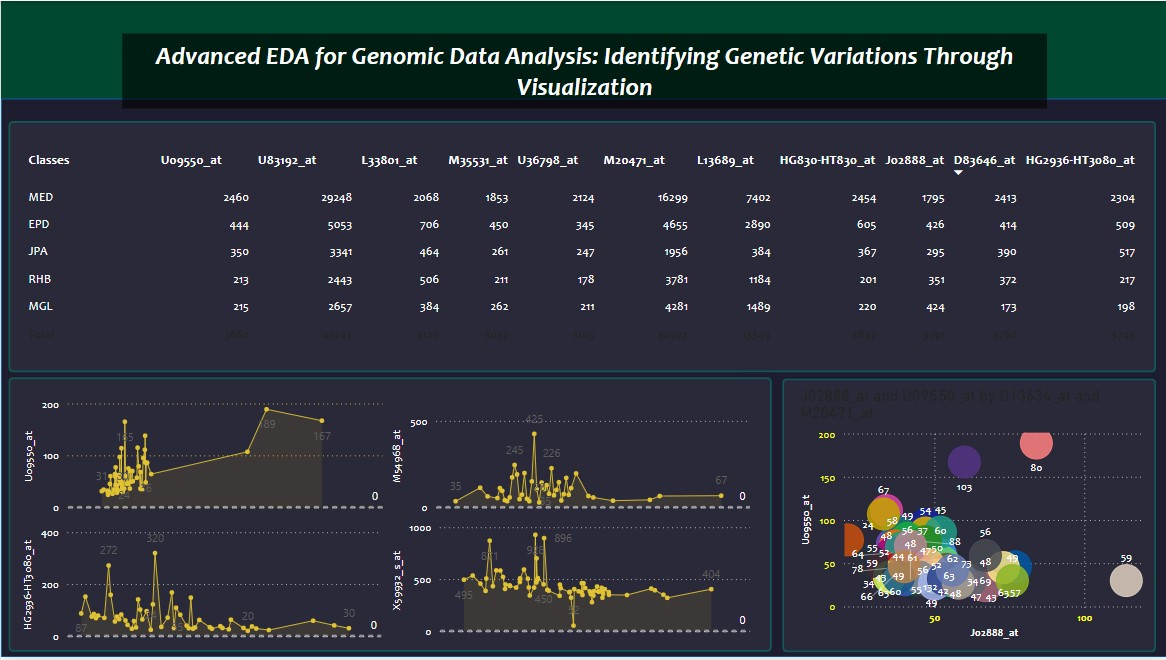

What the dashboard file says about the page in this screenshot:
{"tool":"powerbi","page":{"name":"Page 2","canvas":[1280,720],"ordinal":1},"visuals":[{"type":"shape","box":[0,106.6,1280.3,613.4],"z":0},{"type":"shape","box":[857.6,414.4,410.3,300.5],"z":1000},{"type":"shape","box":[8.6,412.9,838,301.4],"z":2000},{"type":"actionButton","box":[133.1,35.7,1015.4,82.3],"z":3000},{"type":"shape","box":[8.2,131.7,1259.7,275.8],"z":4000},{"type":"scatterChart","fields":{"Category":["pp5i_traintop02.Classes"],"X":["Sum(pp5i_traintop02.J02888_at)"],"Y":["Sum(pp5i_traintop02.U09550_at)"],"Series":["pp5i_traintop02.M20471_at"]},"box":[872.7,422.6,396.6,282.7],"z":5000},{"type":"areaChart","fields":{"Category":["pp5i_traintop02.J04760_at"],"Y":["Sum(pp5i_traintop02.U09550_at)"]},"box":[20.6,428.1,403.4,141.3],"z":6000},{"type":"areaChart","fields":{"Y":["Sum(pp5i_traintop02.HG2936-HT3080_at)"],"Category":["pp5i_traintop02.M54968_at"]},"box":[19.2,569.5,403.4,141.3],"z":7000},{"type":"areaChart","fields":{"Y":["Sum(pp5i_traintop02.X59932_s_at)"],"Category":["pp5i_traintop02.M20471_at"]},"box":[424,564,403.4,141.3],"z":8000},{"type":"areaChart","fields":{"Y":["Sum(pp5i_traintop02.M54968_at)"],"Category":["pp5i_traintop02.D13634_at"]},"box":[424,428.1,403.4,141.3],"z":9000},{"type":"tableEx","fields":{"Values":["pp5i_traintop02.Classes","Sum(pp5i_traintop02.U09550_at)","Sum(pp5i_traintop02.U83192_at)","Sum(pp5i_traintop02.L33801_at)","Sum(pp5i_traintop02.M35531_at)","Sum(pp5i_traintop02.U36798_at)","Sum(pp5i_traintop02.M20471_at)","Sum(pp5i_traintop02.L13689_at)","Sum(pp5i_traintop02.HG830-HT830_at)","Sum(pp5i_traintop02.J02888_at)","Sum(pp5i_traintop02.D83646_at)","Sum(pp5i_traintop02.HG2936-HT3080_at)"]},"box":[19.2,153.7,1239.1,249.7],"z":10000}]}

Visuals, with their boxes in screenshot pixels (x1, y1, x2, y2), scaled from the page's 1280x720 canvas onto the 1166x660 screenshot:
shape: (0, 98, 1165, 659)
shape: (781, 380, 1155, 655)
shape: (8, 378, 771, 655)
actionButton: (121, 33, 1046, 108)
shape: (7, 121, 1155, 374)
scatterChart - pp5i_traintop02.Classes x Sum(pp5i_traintop02.J02888_at): (795, 387, 1156, 647)
areaChart - pp5i_traintop02.J04760_at x Sum(pp5i_traintop02.U09550_at): (19, 392, 386, 522)
areaChart - Sum(pp5i_traintop02.HG2936-HT3080_at) x pp5i_traintop02.M54968_at: (17, 522, 385, 652)
areaChart - Sum(pp5i_traintop02.X59932_s_at) x pp5i_traintop02.M20471_at: (386, 517, 754, 647)
areaChart - Sum(pp5i_traintop02.M54968_at) x pp5i_traintop02.D13634_at: (386, 392, 754, 522)
tableEx - pp5i_traintop02.Classes x Sum(pp5i_traintop02.U09550_at): (17, 141, 1146, 370)
